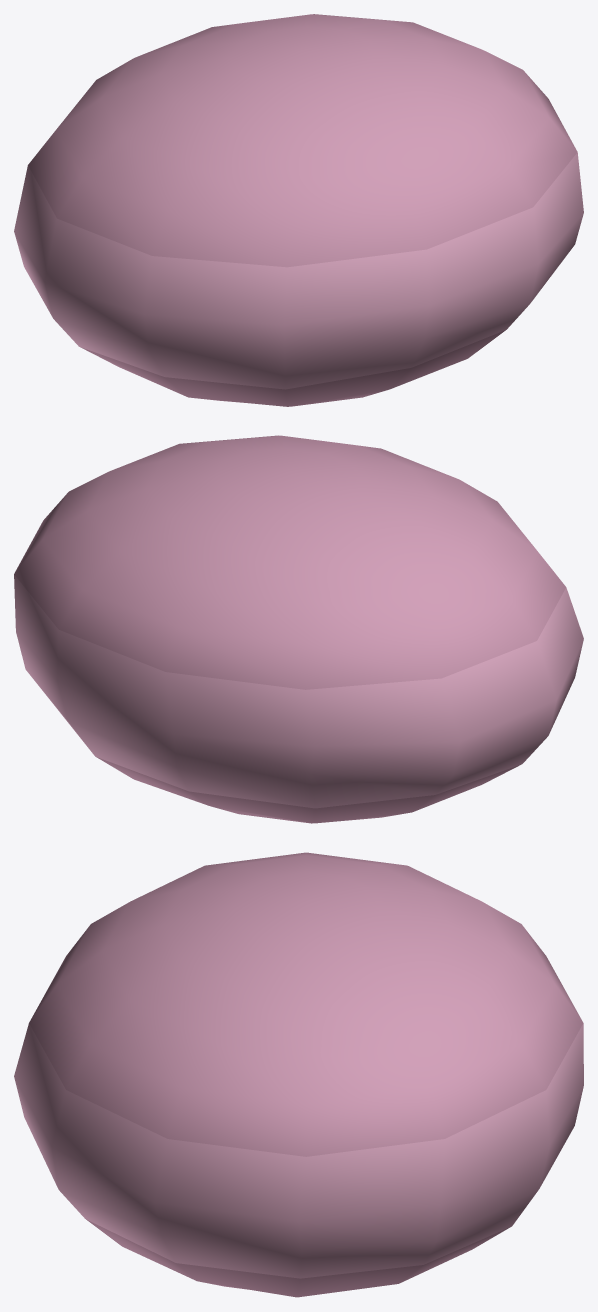
File: bush-74_col.fbx
3 views of the same model, one above another, from view 1: azimuth 30°, elevation 25°; view 2: azimuth 150°, elevation 25°; view 3: azimuth 270°, elevation 25° (orthographic). The views are drawn at different scales.
Visible parts, largest first — view 1: bush-74.col; view 2: bush-74.col; view 3: bush-74.col.
Boxes of the visible parts, x1,y1,x2,y2 form: bush-74.col: (14, 14, 583, 406); bush-74.col: (14, 435, 583, 823); bush-74.col: (14, 852, 583, 1297).
Size of the model in its own units: 0.2752 by 0.1619 by 0.239.
Materials: 1 (1 with a texture image).
